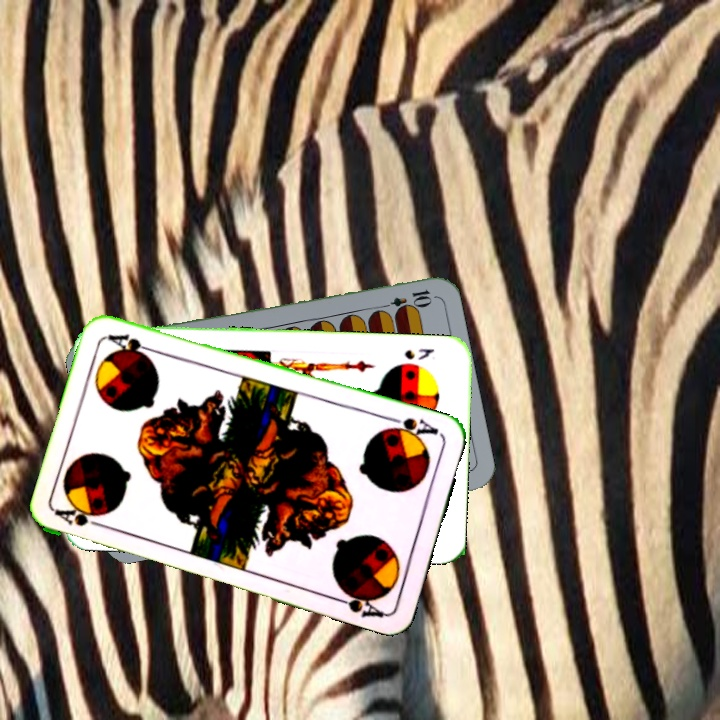E10: (375, 285, 434, 313)
SA: (381, 413, 441, 442), (52, 504, 111, 532)
SK: (400, 344, 437, 362)
